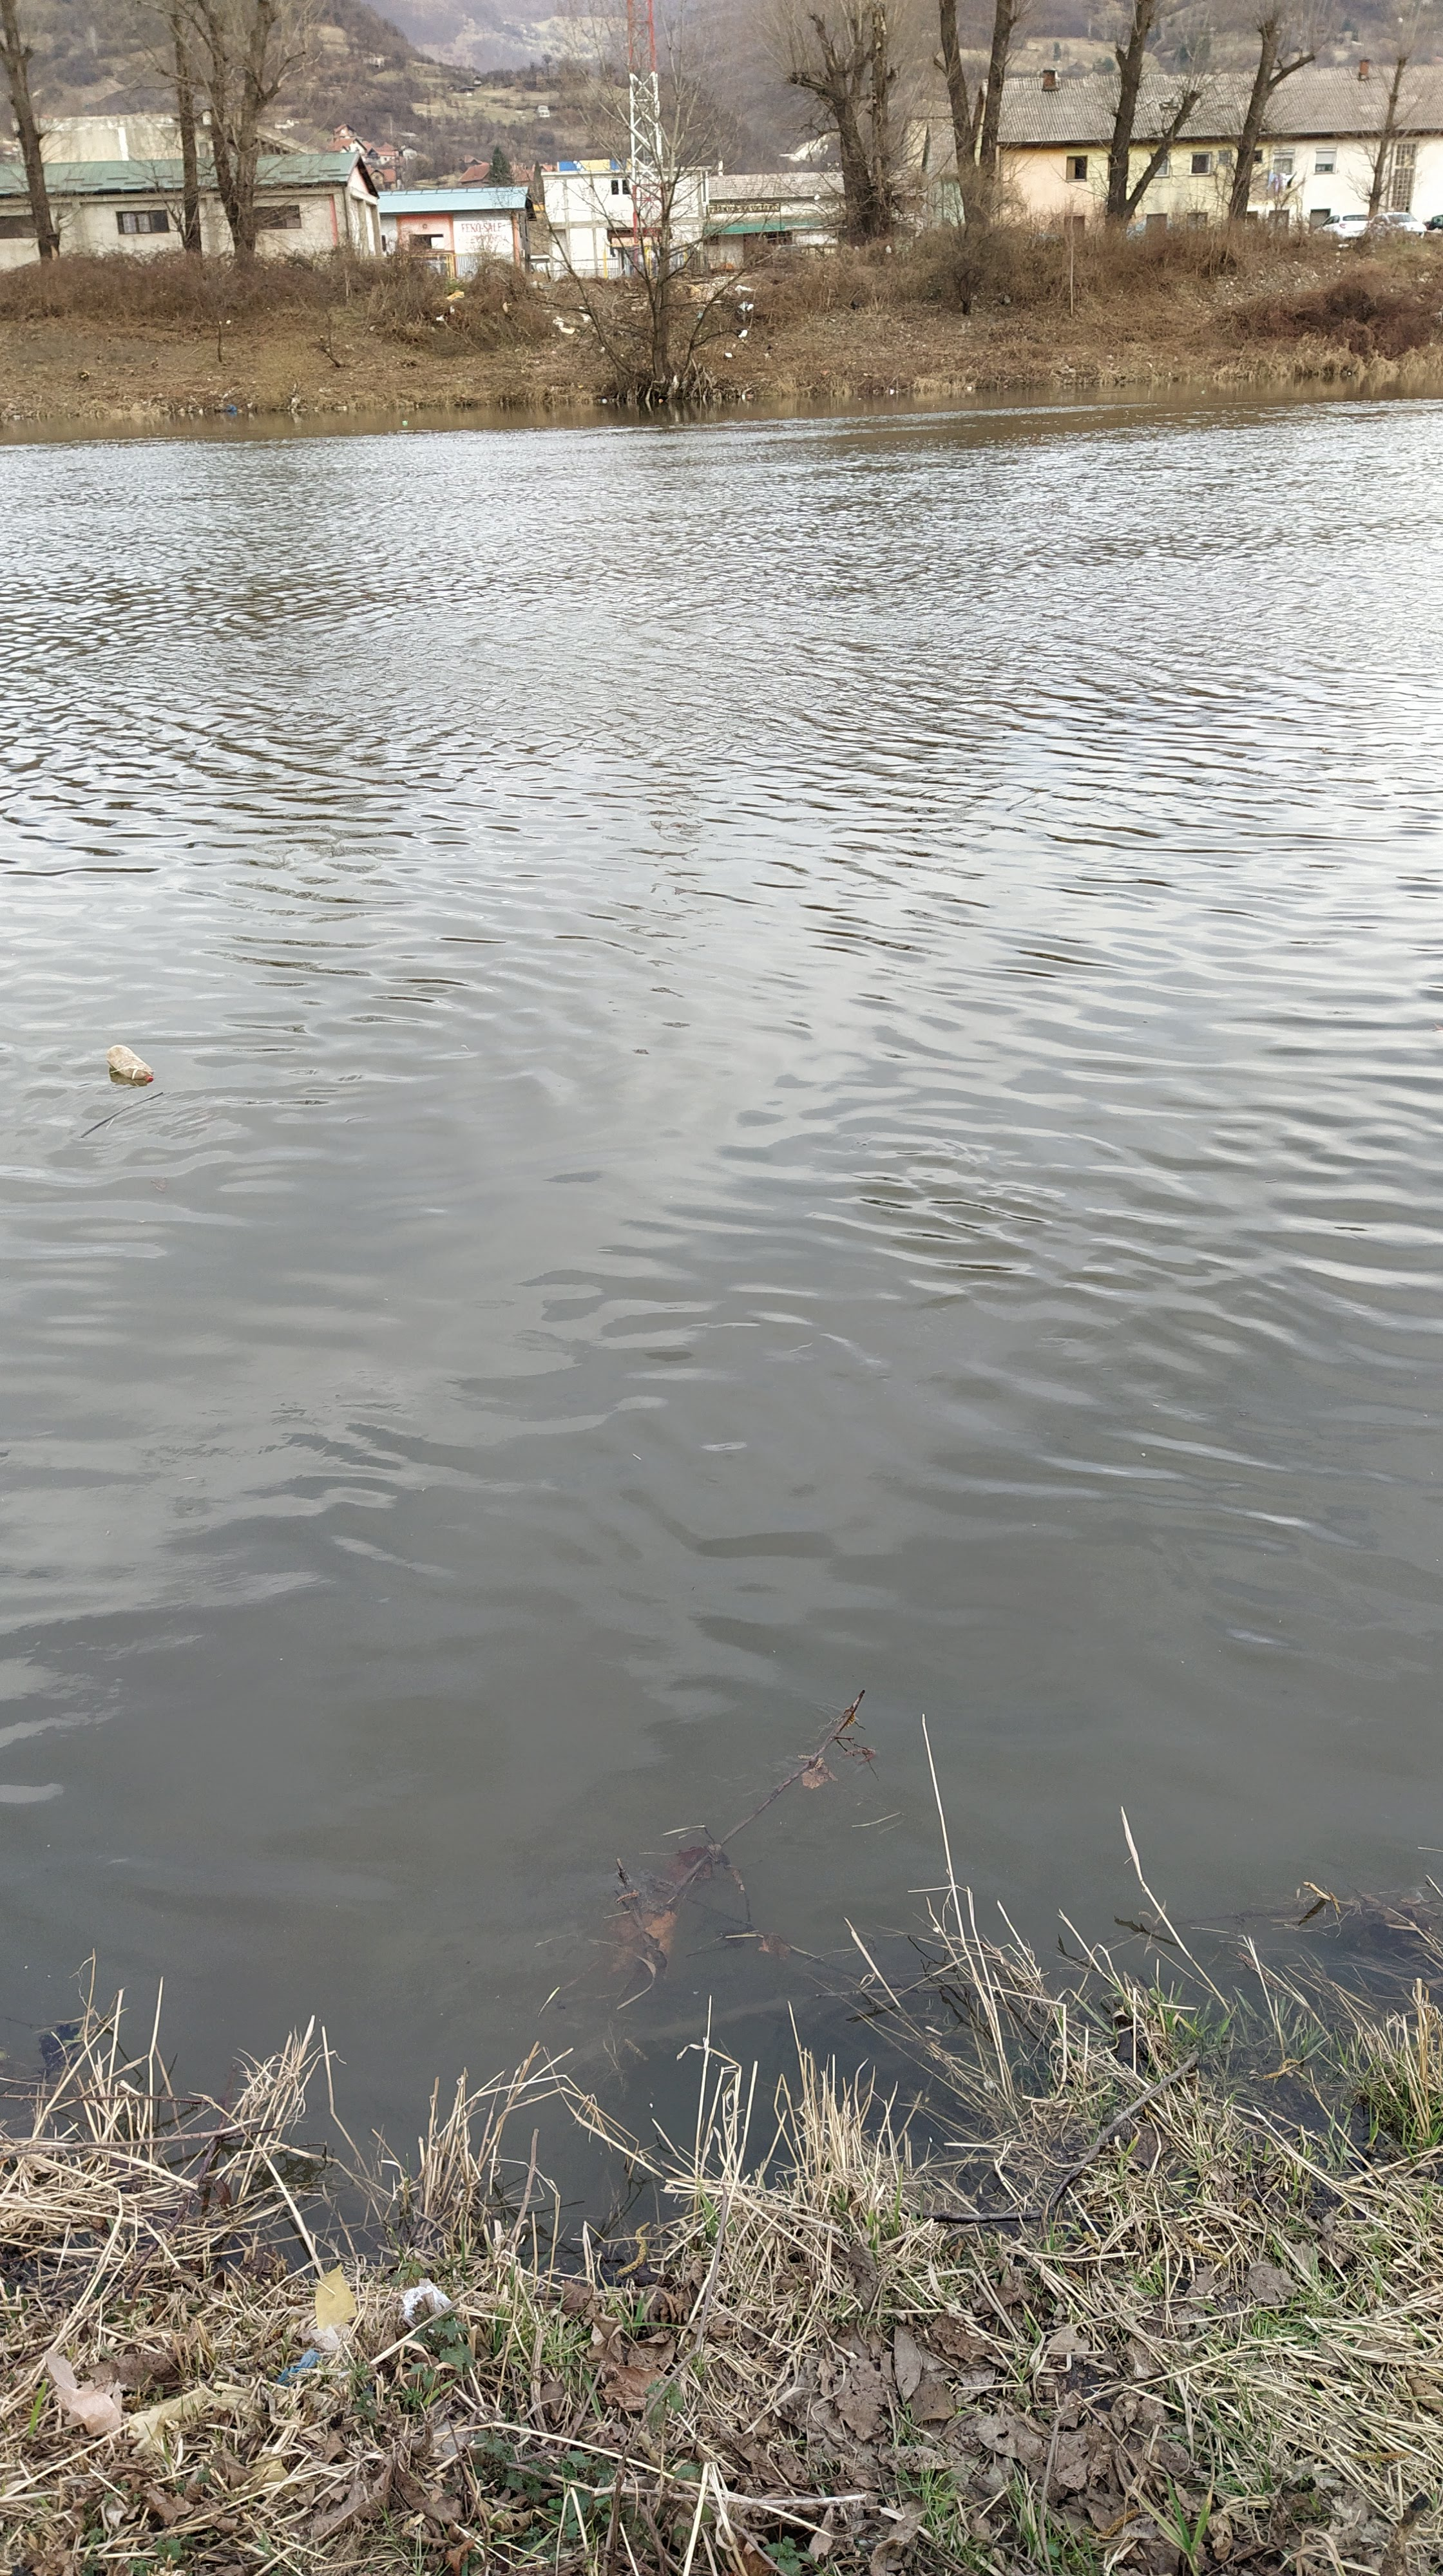Plastic Bottle: (106, 1044, 154, 1083), (402, 419, 405, 423)
